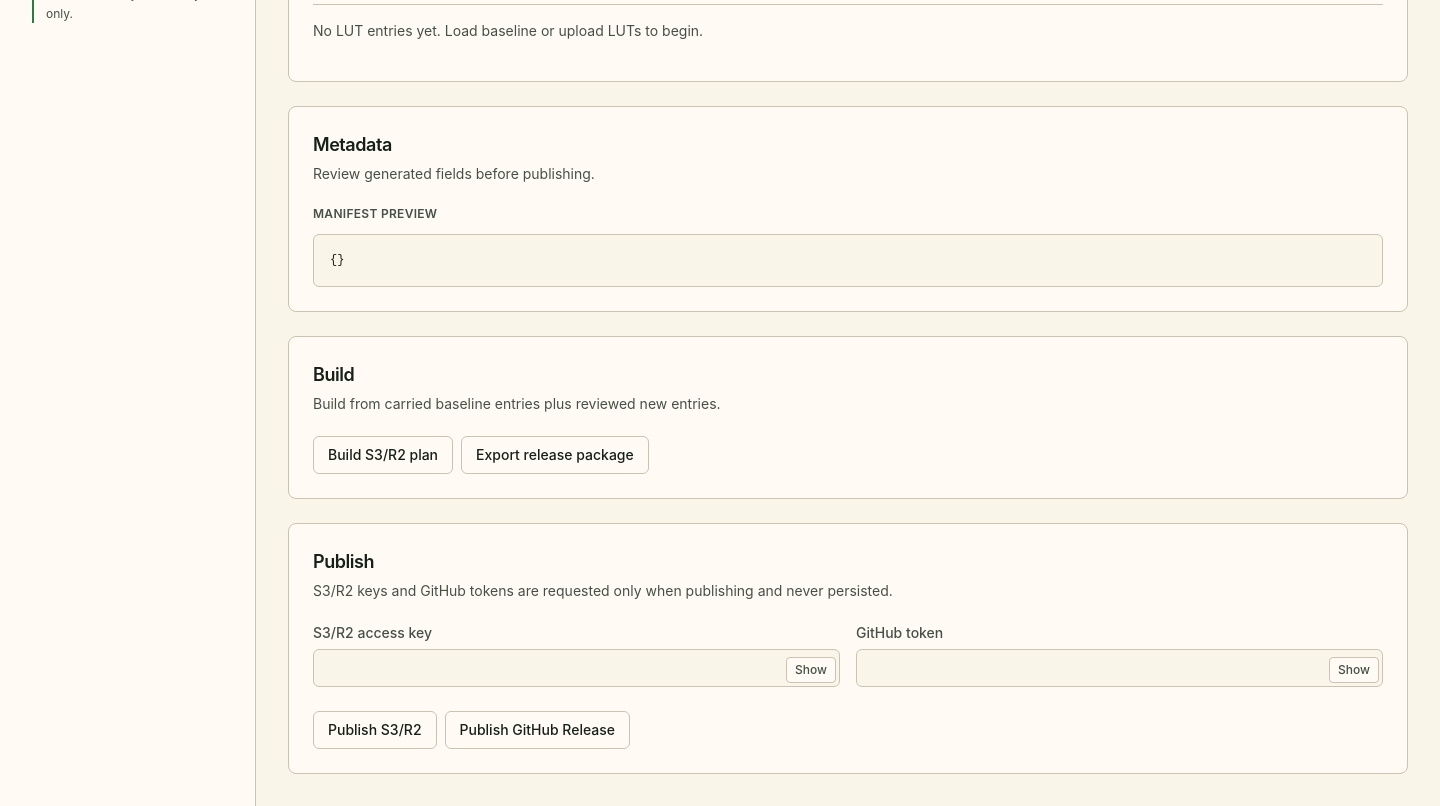
Test: App › reveals a credential without persisting the secret to localStorage
(page scrolled)
Type "AKIA-IN-MEMORY" into the password field labelled "S3/R2 access key" at {"x": 576, "y": 668}, box [313,648,840,686]
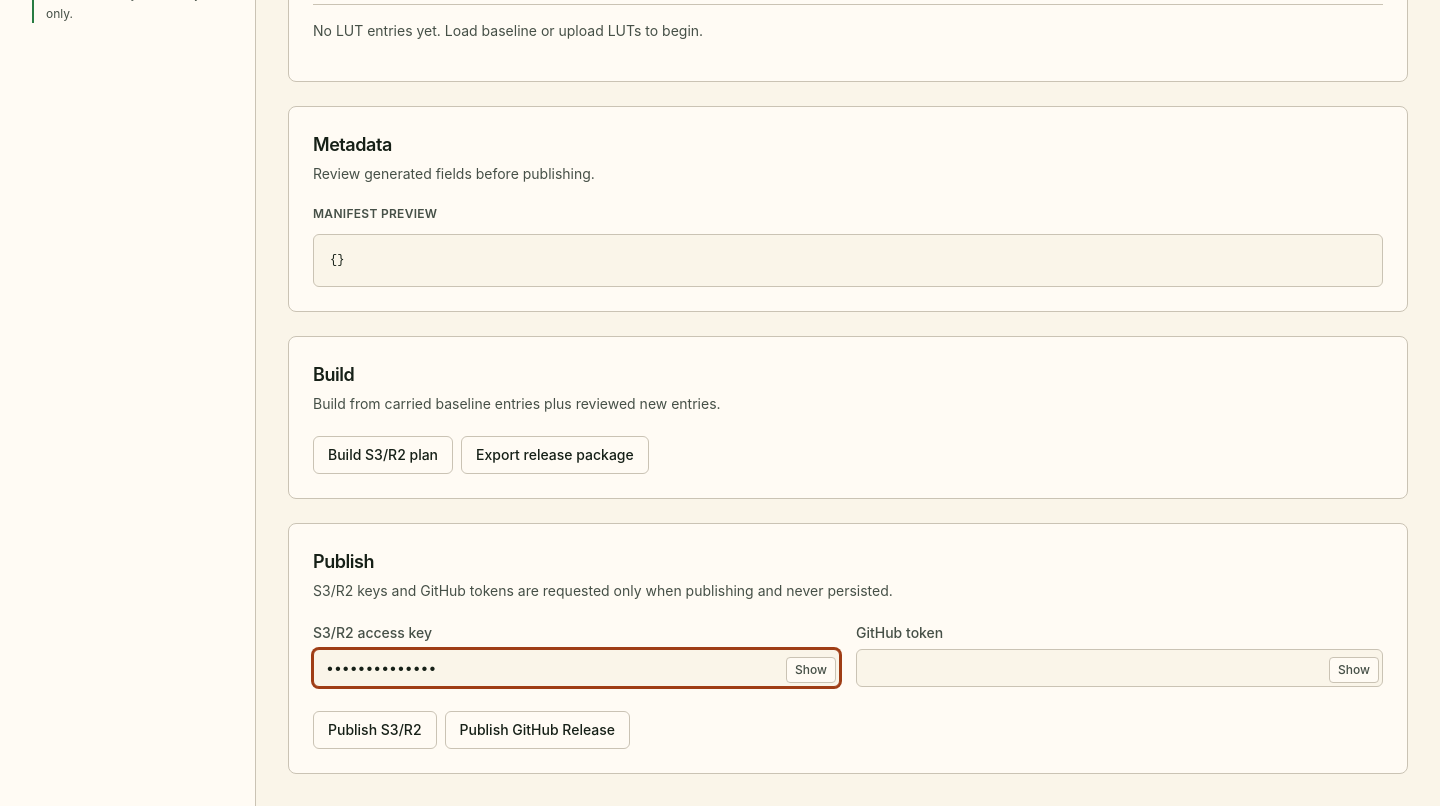
// The reveal toggle for this field flips it to plain text.
Click the 1st button "Show" at {"x": 811, "y": 670}, box [786,656,836,682]
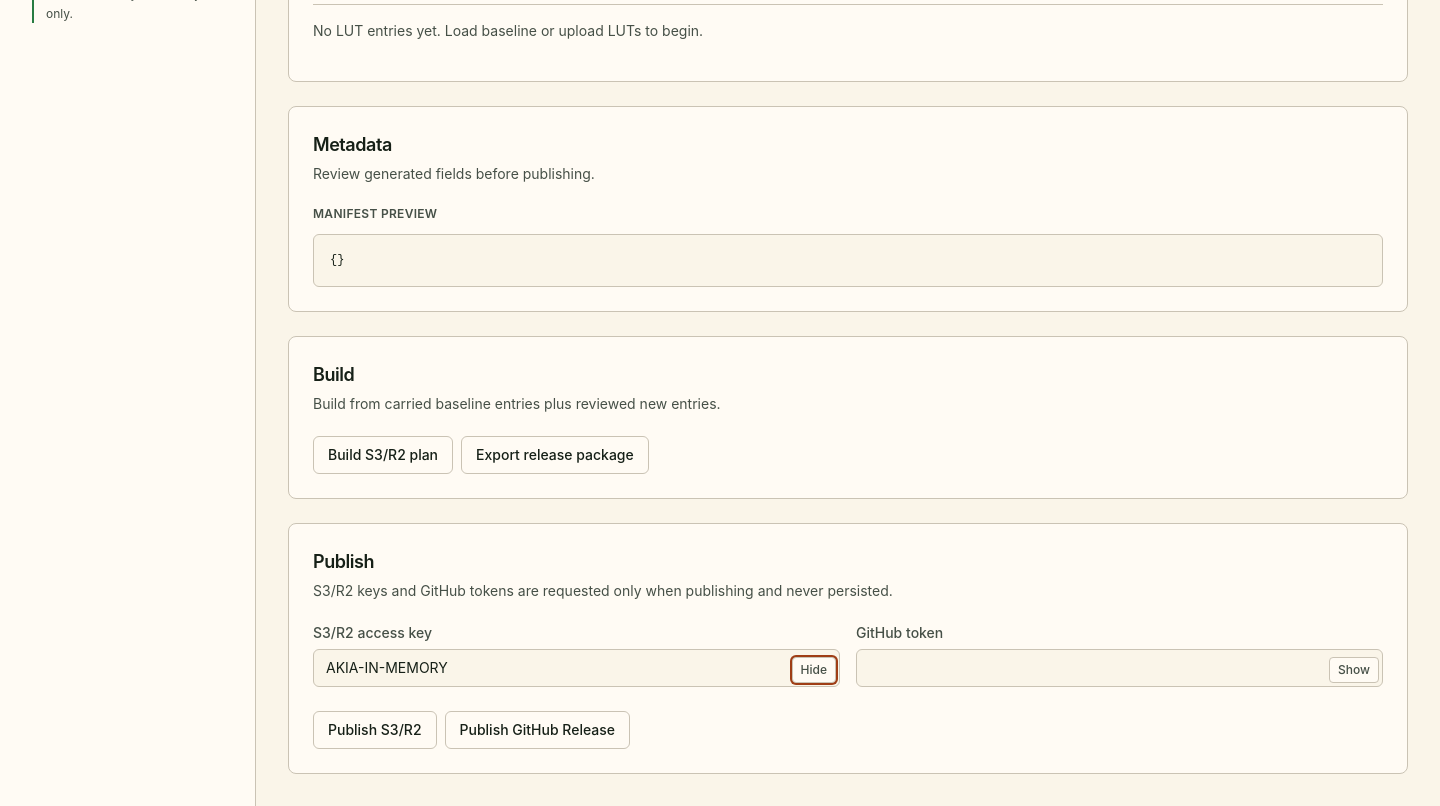
Check: the field labelled "S3/R2 access key" shows its text, box [313,648,840,686]
